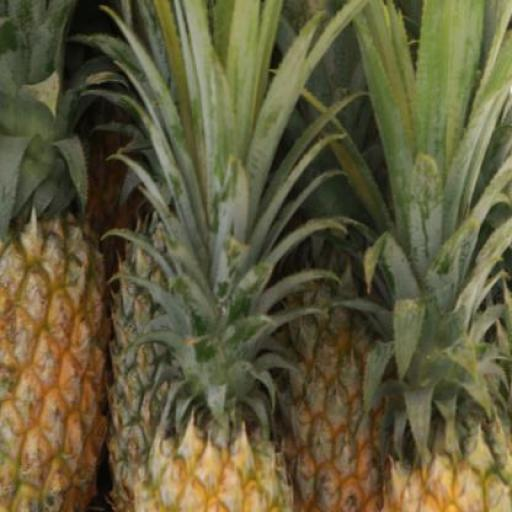------------------------------: (0, 224, 106, 512)
Pineapple - v8 v1: (144, 405, 302, 512)
